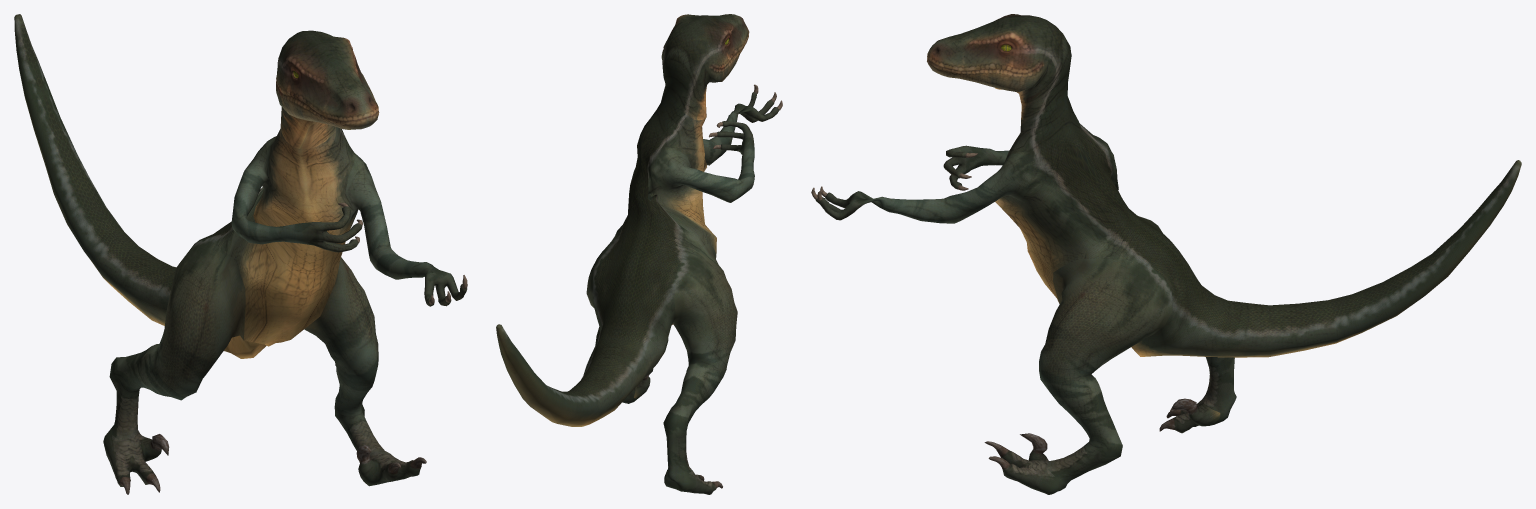
File: dinosize_4.dae
3 views of the same model, side by side, from view 1: azimuth 30°, elevation 25°; view 2: azimuth 150°, elevation 25°; view 3: azimuth 270°, elevation 25° (orthographic). The views are drawn at different scales.
Parts seen in each view (by area): view 1: Dino5; view 2: Dino5; view 3: Dino5.
Boxes of the visible parts, x1,y1,x2,y2 form: Dino5: (14, 14, 467, 494); Dino5: (496, 14, 782, 494); Dino5: (811, 14, 1521, 494).
Bounding box in the file's own units: 1.25 × 2.84 × 4.05.
1 material, 1 textured.
